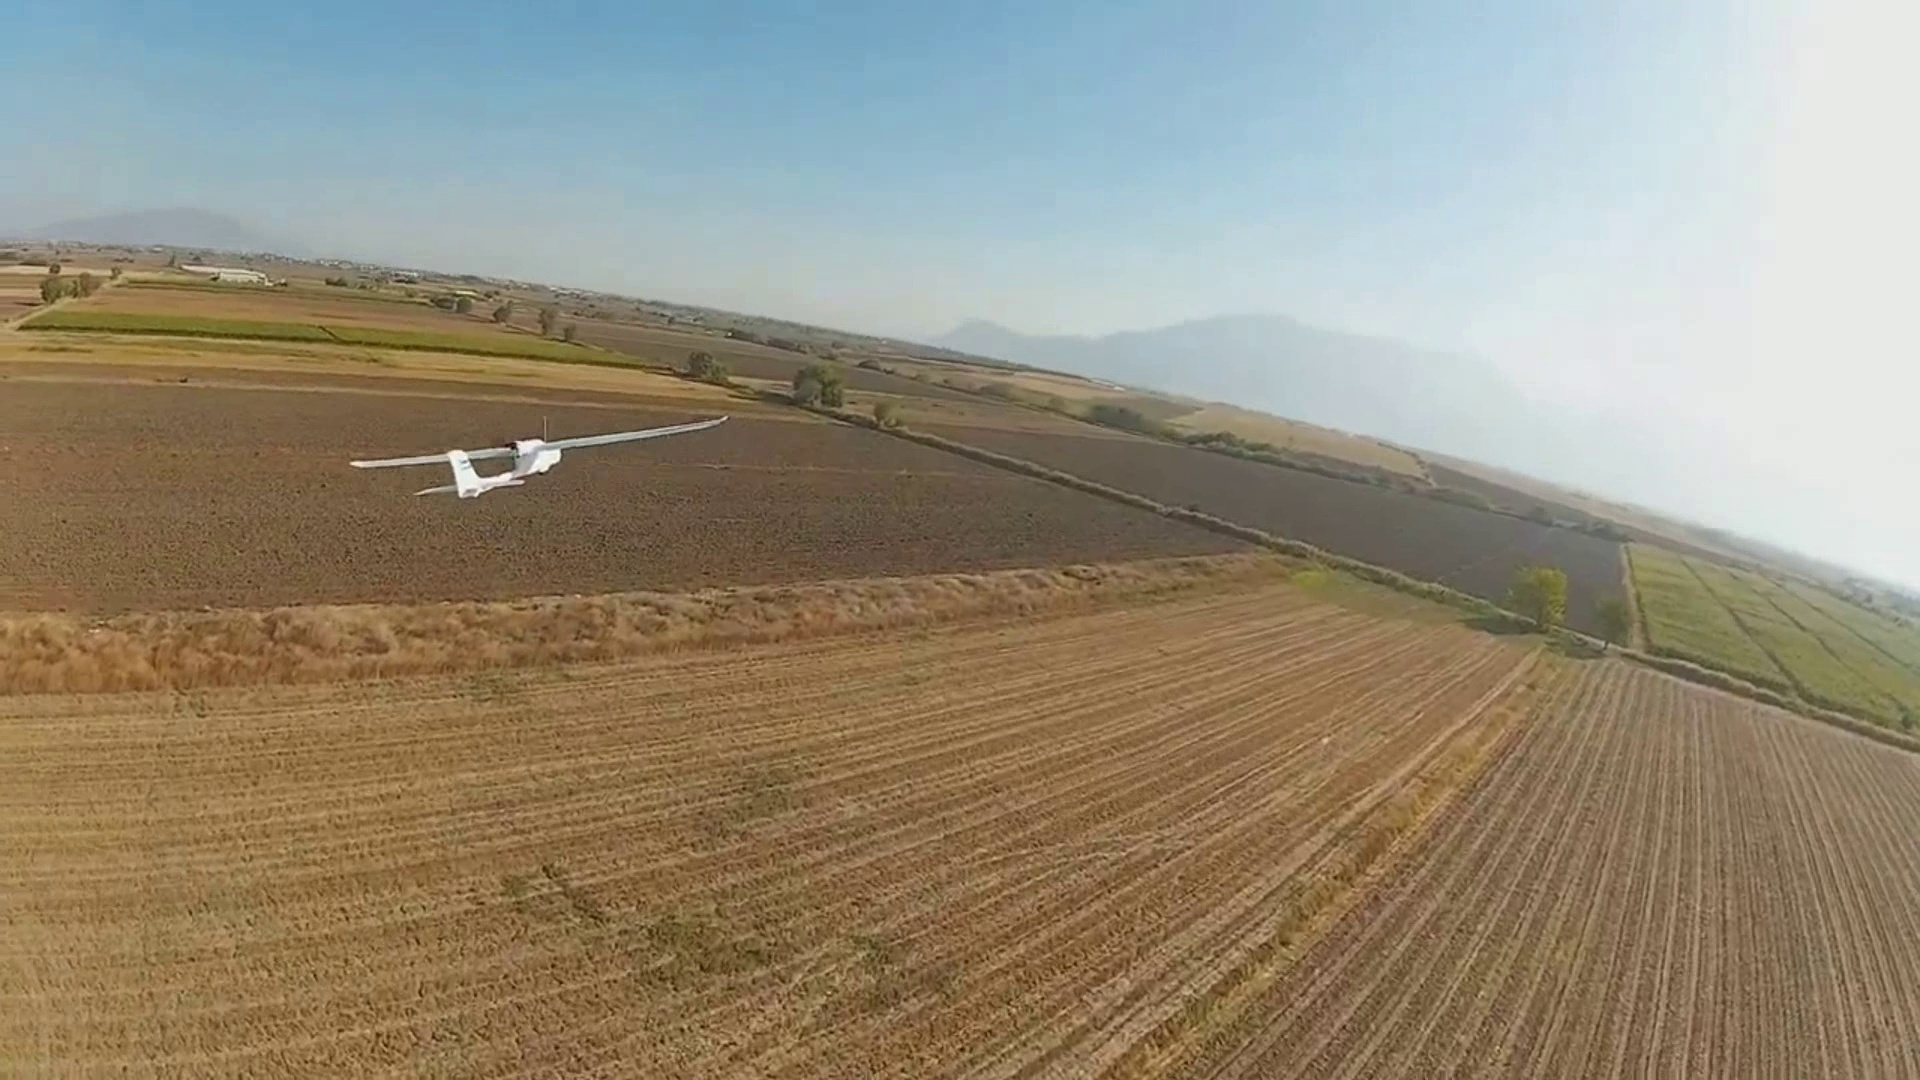airplane: (347, 413, 729, 496)
